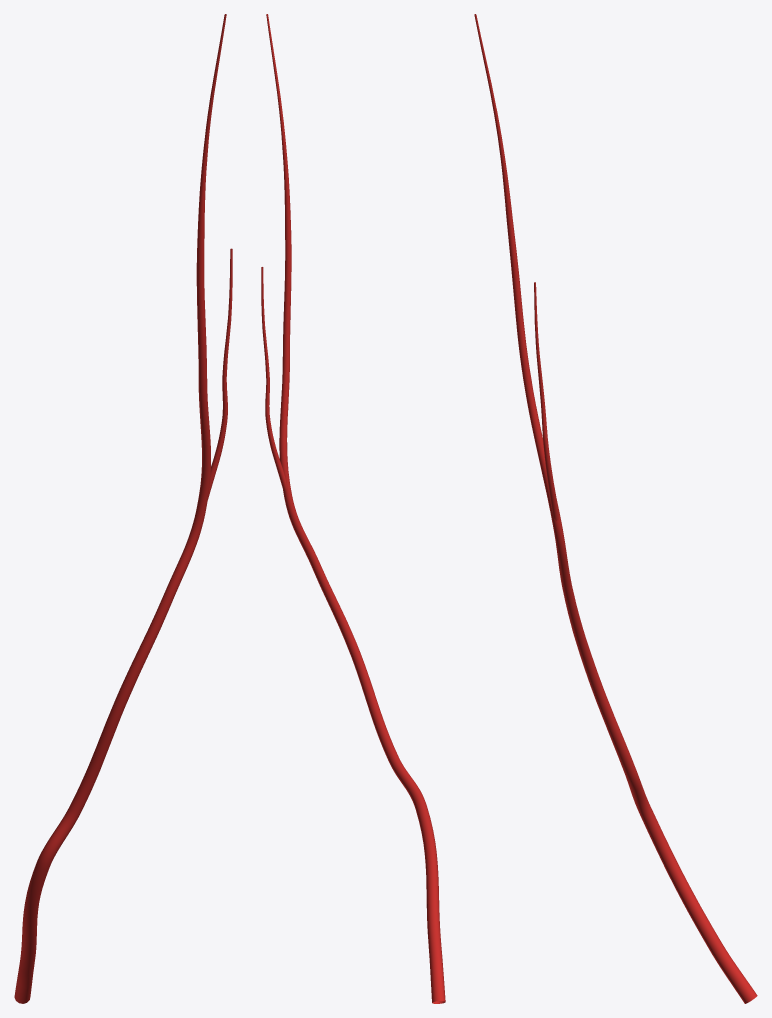
File: circulatorio-superficial-epigastric-artery-l.glb
The picture shows the model from 3 angles, left to right: view 1: azimuth 30°, elevation 25°; view 2: azimuth 210°, elevation 25°; view 3: azimuth 270°, elevation 25°; orthographic projection. The views are drawn at different scales.
Visible parts, largest first — view 1: Superficial epigastric artery.l; view 2: Superficial epigastric artery.l; view 3: Superficial epigastric artery.l.
Part boxes in pixels (x1=…): Superficial epigastric artery.l: x1=14, y1=14, x2=232, y2=1003; Superficial epigastric artery.l: x1=261, y1=14, x2=445, y2=1003; Superficial epigastric artery.l: x1=474, y1=14, x2=757, y2=1003.
Bounding box in the file's own units: 0.0295 × 0.2204 × 0.0557.
